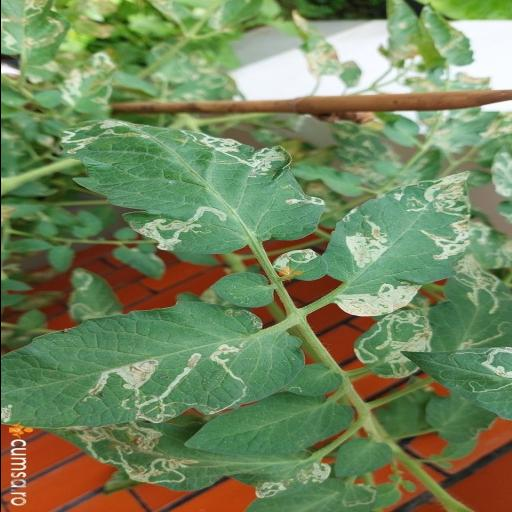Healthy: (180, 393, 360, 458)
Leaf Miner: (0, 298, 304, 430), (48, 123, 326, 255), (320, 166, 474, 316), (62, 420, 330, 500), (428, 256, 512, 356), (350, 306, 434, 380), (270, 250, 326, 282)
